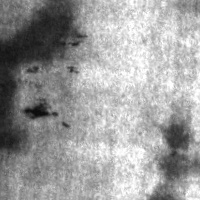patches: (0, 0, 85, 156), (150, 121, 196, 200)
